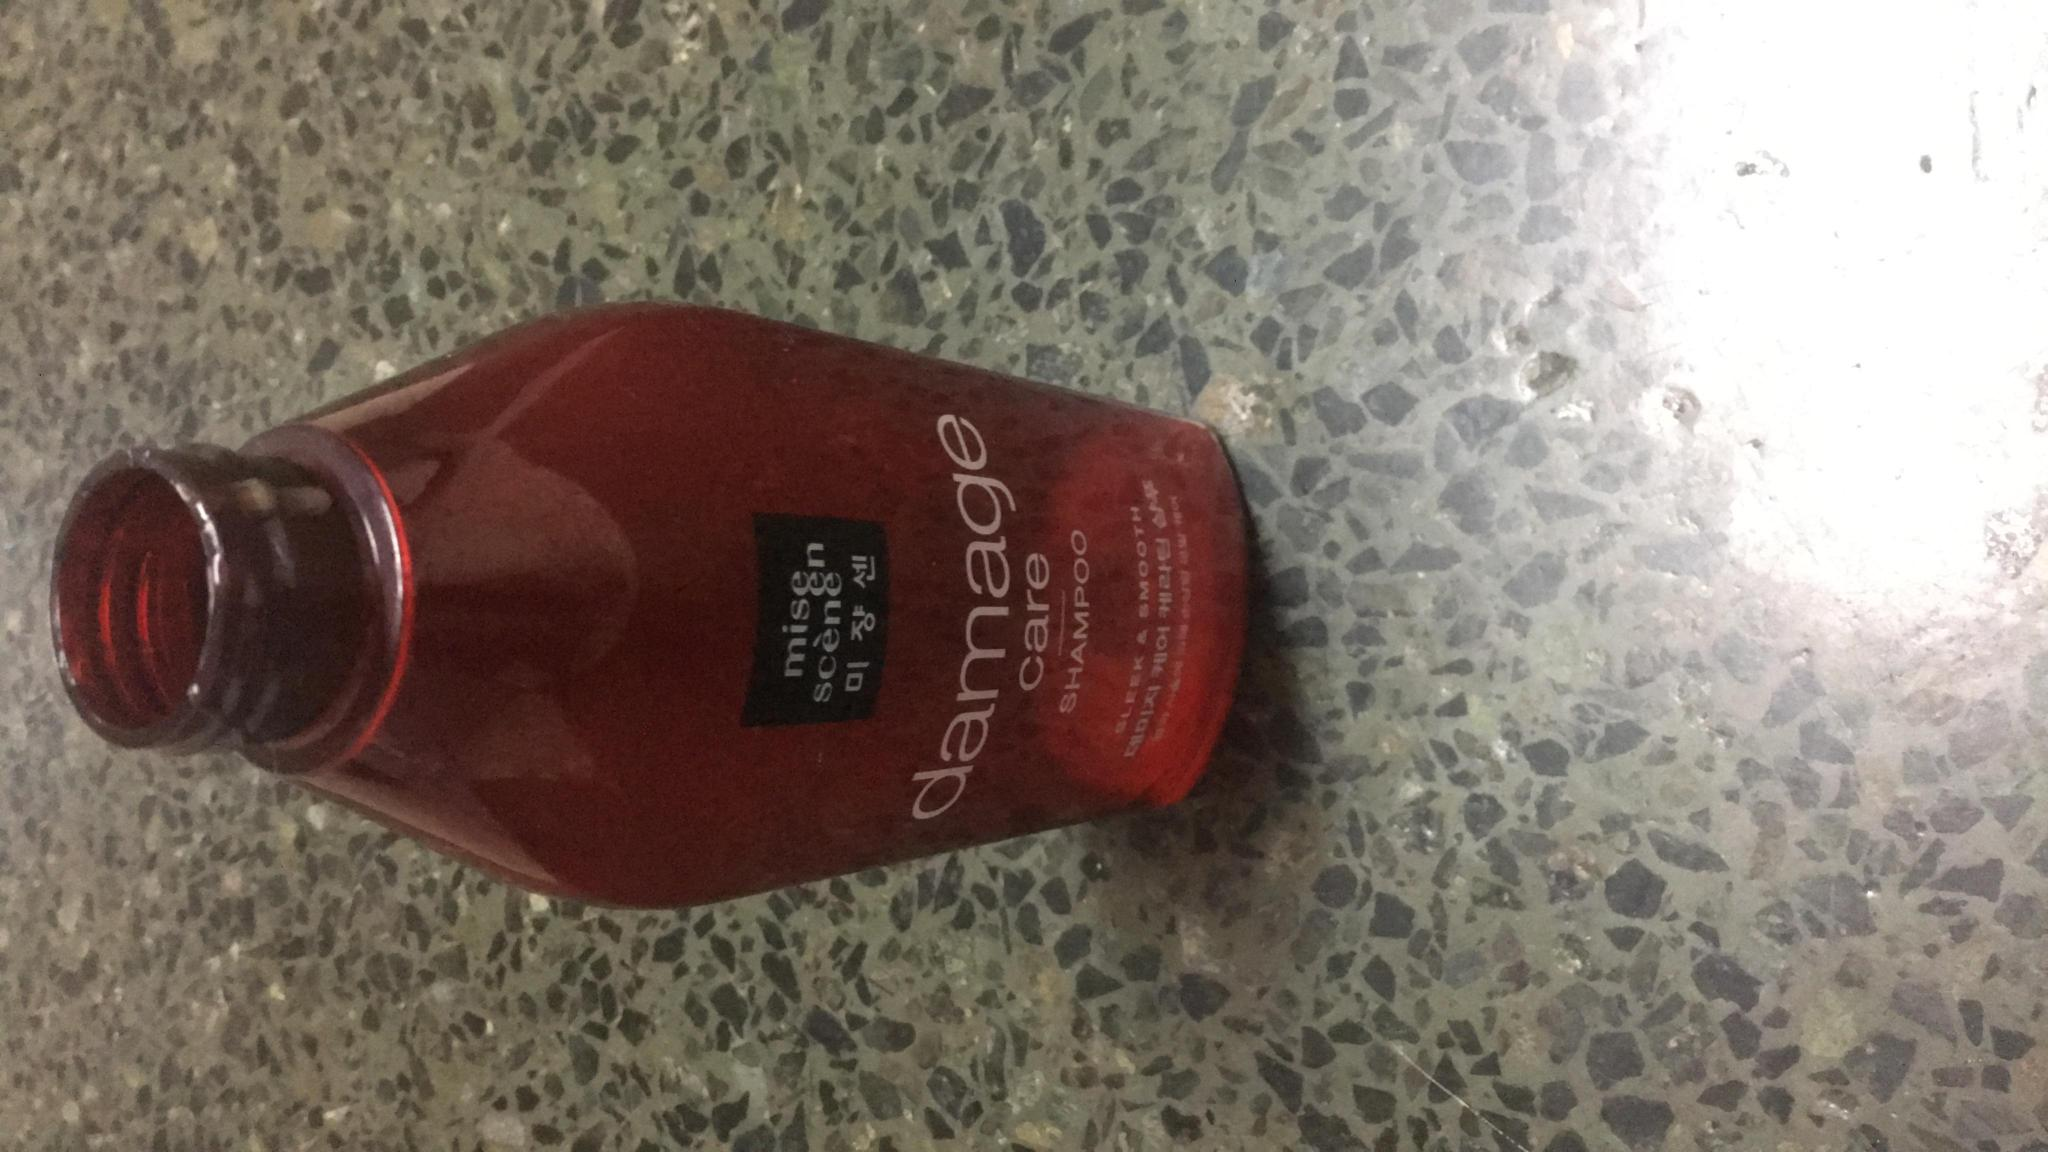bottle: (54, 291, 1258, 917)
